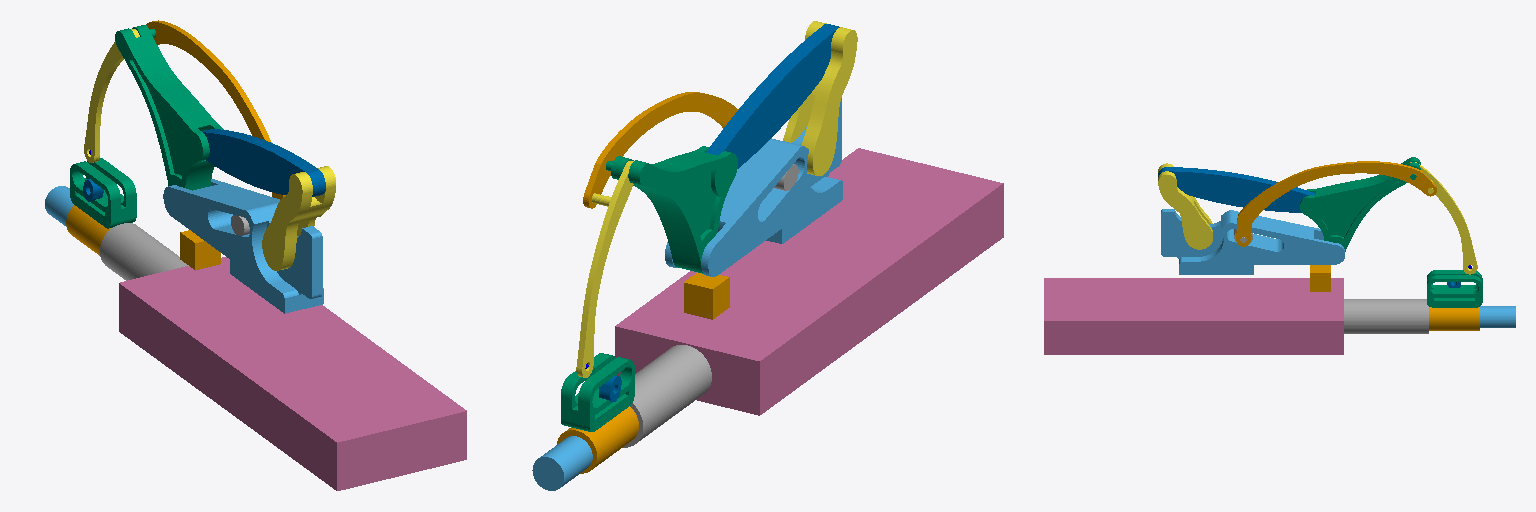
The robot description file, URDF, robot "urdf_assembly":
<?xml version='1.0' encoding='utf-8'?>

<robot name="urdf_assembly">

    <link name="base_link">
        <visual>
            <origin xyz="0 0 0" rpy="0 0 0"/>
            <geometry>
                <box size="0.01 0.01 0.01"/>
            </geometry>
        </visual>
    </link> 
    
    <link name="body">
        <inertial>
            <origin xyz="0.0 0.0 0.0" rpy="0.0 0.0 0.0" />
            <mass value="0.1223" />
            <inertia ixx="5.91121e-05" iyy="7.75083e-06" izz="5.56796e-05" ixy="-8.991e-12" iyz="-1.287e-06" ixz="-1.43744e-12" />
        </inertial>
        <visual name="body_visual">
            <origin xyz="0.0 0.0 0.0" rpy="0.0 0.0 0.0" />
            <geometry>
                <mesh filename="package://exoskeletron_description/meshes/body.stl" scale="0.001 0.001 0.001" />
            </geometry>
        </visual>
        <collision name="body_collision">
            <origin xyz="0.0 0.0 0.0" rpy="0.0 0.0 0.0" />
            <geometry>
                <mesh filename="package://exoskeletron_description/meshes/body.stl" scale="0.001 0.001 0.001" />
            </geometry>
        </collision>
    </link>

    <link name="link_AC">
        <inertial>
            <origin xyz="0.0222 -0.008172 0.0" rpy="0.0 0.0 0.0" />
            <mass value="0.06234" />
            <inertia ixx="1.15274e-05" iyy="9.5782e-06" izz="2.01595e-05" ixy="6.5499e-06" iyz="7.12e-08" ixz="-4.923e-08" />
        </inertial>
        <visual name="link_AC_visual">
            <origin xyz="0.007356 0.008556 0.0" rpy="-2.9131 -1.5708 0.0" />
            <geometry>
                <mesh filename="package://exoskeletron_description/meshes/link_AC.stl" scale="0.001 0.001 0.001" />
            </geometry>
        </visual>
        <collision name="link_AC_collision">
            <origin xyz="0.007356 0.008556 0.0" rpy="-2.9131 -1.5708 0.0" />
            <geometry>
                <mesh filename="package://exoskeletron_description/meshes/link_AC.stl" scale="0.001 0.001 0.001" />
            </geometry>
        </collision>
    </link>

    <link name="rear_crank">
        <inertial>
            <origin xyz="0.01361 0.007049 -0.000762" rpy="0.0 0.0 0.0" />
            <mass value="0.02908" />
            <inertia ixx="1.70292e-06" iyy="3.98339e-06" izz="4.76408e-06" ixy="-1.7956e-06" iyz="-1.13744e-07" ixz="-2.04e-07" />
        </inertial>
        <visual name="rear_crank_visual">
            <origin xyz="0.0171 -0.0588 0.0" rpy="-2.8798 -1.5708 0.0" />
            <geometry>
                <mesh filename="package://exoskeletron_description/meshes/rear_crank.stl" scale="0.001 0.001 0.001" />
            </geometry>
        </visual>
        <collision name="rear_crank_collision">
            <origin xyz="0.0171 -0.0588 0.0" rpy="-2.8798 -1.5708 0.0" />
            <geometry>
                <mesh filename="package://exoskeletron_description/meshes/rear_crank.stl" scale="0.001 0.001 0.001" />
            </geometry>
        </collision>
    </link>

    <link name="connecting_rod">
        <inertial>
            <origin xyz="-0.006793 -0.03467 0.0" rpy="0.0 0.0 0.0" />
            <mass value="0.03844" />
            <inertia ixx="1.55767e-05" iyy="1.21347e-06" izz="1.663e-05" ixy="-2.90187e-06" iyz="0.0" ixz="0.0" />
        </inertial>
        <visual name="connecting_rod_visual">
            <origin xyz="-0.03087 -0.06882 0.0" rpy="-3.132 -1.5708 0.0" />
            <geometry>
                <mesh filename="package://exoskeletron_description/meshes/connecting_rod.stl" scale="0.001 0.001 0.001" />
            </geometry>
        </visual>
        <collision name="connecting_rod_collision">
            <origin xyz="-0.03087 -0.06882 0.0" rpy="-3.132 -1.5708 0.0" />
            <geometry>
                <mesh filename="package://exoskeletron_description/meshes/connecting_rod.stl" scale="0.001 0.001 0.001" />
            </geometry>
        </collision>
    </link>


    <!--  NUOVI LINK E JOINT FISSI PER IL VINCOLO DI CHIUSURA  -->

    <!-- punto di chiusura su link_AC -->
    <link name="frame_AC_end">
        <visual>
            <origin xyz="0 0 0" rpy="0 0 0"/>
            <geometry>
                <sphere radius="0.001"/>
            </geometry>
            <material name="blue">
                <color rgba="0 0 1 1"/>
            </material>
        </visual>
    </link>

    <joint name="fixed_AC_end" type="fixed">
        <parent link="link_AC"/>
        <child link="frame_AC_end"/>
        <origin xyz="0.02446 0.01180 0.0" rpy="0.0 0.0 0.0"/>
    </joint>

    <!-- punto di chiusura su connecting_rod -->
    <link name="frame_rod_end">
        <visual>
            <origin xyz="0 0 0" rpy="0 0 0"/>
            <geometry>
                <sphere radius="0.001"/>
            </geometry>
            <material name="red">
                <color rgba="1 0 0 1"/>
            </material>
        </visual>
    </link>

    <joint name="fixed_rod_end" type="fixed">
        <parent link="connecting_rod"/>
        <child link="frame_rod_end"/>
        <origin xyz="-0.013442 -0.069321 -5.1062e-7" rpy="0 0 0"/>
    </joint>


<!--   JOINTS ORIGINALI   -->

    <joint name="rev_crank" type="revolute">
        <origin xyz="0.0 -0.05876 -0.0008932" rpy="-3.1416 -1.5708 0.0" />
        <parent link="body" />
        <child link="rear_crank" />
        <axis xyz="0.0 0.0 1.0" />
        <limit lower="-3.1416" upper="3.1416" effort="1000000" velocity="1000000" />
    </joint>

    <joint name="body_fixed" type="fixed">
        <parent link="base_link"/>
        <child link="body"/>
        <origin xyz="0 0 0.025" rpy="0 0 0"/>
    </joint>

    <joint name="rev_body2linkAC" type="revolute">
        <origin xyz="0.0 0.006701 -0.0089853" rpy="-3.1416 -1.5708 0.0" />
        <parent link="body" />
        <child link="link_AC" />
        <axis xyz="0.0 0.0 1.0" />
        <limit lower="-3.1416" upper="3.1416" effort="1000000" velocity="1000000" />
    </joint>

    <joint name="rev_crank2shaft" type="revolute">
        <origin xyz="0.02981 0.01566 0.0" rpy="0.0 0.0 0.0" />
        <parent link="rear_crank" />
        <child link="connecting_rod" />
        <axis xyz="0.0 0.0 1.0" />
        <limit lower="-3.1416" upper="3.1416" effort="1000000" velocity="1000000" />
    </joint>

<!-- #########################################-->

    <!-- LINKS -->

    <link name="slider_f">
        <inertial>
            <origin xyz="0.0002343 0.006014 0.00348" rpy="0.0 0.0 0.0" />
            <mass value="0.006394" />
            <inertia ixx="5.42365e-08" iyy="1.50739e-07" izz="1.63551e-07" ixy="0.0" iyz="0.0" ixz="0.0" />
        </inertial>
        <visual name="slider_f_visual">
            <origin xyz="-0.0075 -0.0275 -0.00875" rpy="-2.8947 0.0 0.0" />
            <geometry>
                <mesh filename="package://exoskeletron_description/meshes/slider_f.stl" scale="0.001 0.001 0.001" />
            </geometry>
        </visual>
        <collision name="slider_f_collision">
            <origin xyz="-0.0075 -0.0275 -0.00875" rpy="-2.8947 0.0 0.0" />
            <geometry>
                <mesh filename="package://exoskeletron_description/meshes/slider_f.stl" scale="0.001 0.001 0.001" />
            </geometry>
        </collision>
    </link>

    <link name="link_BC">
        <inertial>
            <origin xyz="0 0 0" rpy="0.0 0.0 0.0" />
            <mass value="0.01155" />
            <inertia ixx="1.10976e-05" iyy="1.53689e-06" izz="1.26268e-05" ixy="-2.99251e-06" iyz="0.0" ixz="0.0" />
        </inertial>
        <visual name="link_BC_visual">
            <origin xyz="0.004365 0.03241 -0.008" rpy="0.08988 1.5708 0.0" />
            <geometry>
                <mesh filename="package://exoskeletron_description/meshes/link_BC.stl" scale="0.001 0.001 0.001" />
            </geometry>
        </visual>
        <collision name="link_BC_collision">
            <origin xyz="0.004365 0.03241 -0.008" rpy="0.08988 1.5708 0.0" />
            <geometry>
                <mesh filename="package://exoskeletron_description/meshes/link_BC.stl" scale="0.001 0.001 0.001" />
            </geometry>
        </collision>
    </link> 
    

    <!-- JOINTS-->

    <joint name="slider" type="prismatic">
        <origin xyz="0.0 -0.037468 0.00023484" rpy="2.8861 0.0 0.0" /> 
        <parent link="body" />
        <child link="slider_f" />
        <axis xyz="0.0 1.0 0.0" />
        <limit lower="-0.0095" upper="0.0095" effort="1000000" velocity="1000000" />
    </joint>

    <joint name="rev_slider2linkBC" type="revolute">
        <origin xyz="0 0 0" rpy="-1.5708 1.3153 1.5708" />
        <parent link="slider_f" />
        <child link="link_BC" />
        <axis xyz="0.0 0.0 1.0" />
        <limit lower="-3.1416" upper="3.1416" effort="1000000" velocity="1000000" />
    </joint> 



     <!-- punto di chiusura su link_AC -->
    <link name="frame_AC_end_2">
        <visual>
            <origin xyz="0 0 0" rpy="0 0 0"/>
            <geometry>
                <sphere radius="0.001"/>
            </geometry>
            <material name="blue">
                <color rgba="0 0 1 1"/>
            </material>
        </visual>
    </link>

    <joint name="fixed_AC_end_2" type="fixed">
        <parent link="link_AC"/>
        <child link="frame_AC_end_2"/>
        <origin xyz="0.0430 -0.03828 0" rpy="0.0 0.0 0.0"/>
    </joint>


    <!-- punto di chiusura su link_BC -->
    <link name="frame_BC_end">
        <visual>
            <origin xyz="0 0 0" rpy="0 0 0"/>
            <geometry>
                <sphere radius="0.001"/>
            </geometry>
            <material name="blue">
                <color rgba="0 0 1 1"/>
            </material>
        </visual>
    </link>

    <joint name="fixed_BC_end" type="fixed">
        <parent link="link_BC"/>
        <child link="frame_BC_end"/>
        <origin xyz="0.03378016 0.082449 4.4124e-7" rpy="3.1416 0.0 0.0"/>
    </joint>



    <!-- FIN QUI FUNZIONA TUTTO-->
<!-- ############################################################## -->

    <!-- LINKS -->

    <link name="link_CE">
        <inertial>
            <origin xyz="-0.02316 -0.0166 0.000506" rpy="0.0 0.0 0.0" />
            <mass value="0.005995" />
            <inertia ixx="5.16e-07" iyy="1.80331e-06" izz="2.27595e-06" ixy="-8.82461e-07" iyz="-2.50712e-08" ixz="-4.76815e-08" />
        </inertial>
        <visual name="link_CE_visual">
            <origin xyz="-0.03204 0.04956 -0.001" rpy="-2.9908 -1.5708 0.0" />
            <geometry>
                <mesh filename="package://exoskeletron_description/meshes/link_CE.stl" scale="0.001 0.001 0.001" />
            </geometry>
        </visual>
        <collision name="link_CE_collision">
            <origin xyz="-0.03204 0.04956 -0.001" rpy="-2.9908 -1.5708 0.0" />
            <geometry>
                <mesh filename="package://exoskeletron_description/meshes/link_CE.stl" scale="0.001 0.001 0.001" />
            </geometry>
        </collision>
    </link>

    <!-- JOINTS -->


    <joint name="rev_linkAC2linkCE" type="revolute">
        <origin xyz="0.04298 -0.03828 0.0" rpy="0.0 0.0 0.0" />
        <parent link="link_AC" />
        <child link="link_CE" />
        <axis xyz="0.0 0.0 1.0" />
        <limit lower="-3.1416" upper="3.1416" effort="1000000" velocity="1000000" />
    </joint>


    <!-- CHIUSURE -->
    <link name="frame_CE_end">
        <visual>
            <origin xyz="0 0 0" rpy="0 0 0"/>
            <geometry>
                <sphere radius="0.001"/>
            </geometry>
            <material name="blue">
                <color rgba="0 0 1 1"/>
            </material>
        </visual>
    </link>

    <joint name="fixed_CE_end" type="fixed">
        <parent link="link_CE"/>
        <child link="frame_CE_end"/>
        <origin xyz="-0.007428 -0.008328 0.0" rpy="0.0 0.0 0.0" />
    </joint>


    <link name="frame_BC_end_2">
        <visual>
            <origin xyz="0 0 0" rpy="0 0 0"/>
            <geometry>
                <sphere radius="0.001"/>
            </geometry>
            <material name="blue">
                <color rgba="0 0 1 1"/>
            </material>
        </visual>
    </link>

    <joint name="fixed_BC_end_2" type="fixed">
        <parent link="link_BC"/>
        <child link="frame_BC_end_2"/>
        <origin xyz="0.02633216 0.090777 4.1981e-7" rpy="3.1416 0.0 0.0" />
    </joint>





<!-- ####################################
PARTE DELLA MANO
######################################  -->

    

  <link name="mano_palmo">
    <inertial>
      <origin xyz="0 0 0" rpy="0 0 0"/>
      <mass value="1.022198"/>
      <inertia ixx="0.001831" iyy="0.000240" izz="0.002016" ixy="0" iyz="0" ixz="0"/>
    </inertial>
    <visual name="mano_palmo_visual">
      <origin xyz="0 0 0" rpy="0 0 0"/>
      <geometry>
        <mesh filename="package://exoskeletron_description/meshes/mano_palmo.stl" scale="0.001 0.001 0.001"/>
      </geometry>
    </visual>
    <collision name="mano_palmo_collision">
      <origin xyz="0 0 0" rpy="0 0 0"/>
      <geometry>
        <mesh filename="package://exoskeletron_description/meshes/mano_palmo.stl" scale="0.001 0.001 0.001"/>
      </geometry>
    </collision>
  </link>

    <joint name="fixed_palmo_body" type="fixed">
        <origin xyz="-0.00499987665  0.008 0.01" rpy="0 0 0"/>
        <parent link="base_link"/>
        <child link="mano_palmo"/>
    </joint>







  <link name="mano_prossimale">
    <inertial>
      <origin xyz="0.0 0.020500 0.0" rpy="0 0 0"/>
      <mass value="0.073054"/>
      <inertia ixx="0.000012" iyy="0.000003" izz="0.000012" ixy="0" iyz="0" ixz="0"/>
    </inertial>
    <visual name="mano_prossimale_visual">
      <origin xyz="0.0 -0.009771 0.030232" rpy="0 0 0"/>
      <geometry>
        <mesh filename="package://exoskeletron_description/meshes/mano_prossimale.stl" scale="0.001 0.001 0.001"/>
      </geometry>
    </visual>
    <collision name="mano_prossimale_collision">
      <origin xyz="0.0 -0.009771 0.030232" rpy="0 0 0"/>
      <geometry>
        <mesh filename="package://exoskeletron_description/meshes/mano_prossimale.stl" scale="0.001 0.001 0.001"/>
      </geometry>
    </collision>
  </link>

  <link name="mano_mediale">
    <inertial>
      <origin xyz="0.0 0.0 0.012500" rpy="0 0 0"/>
      <mass value="0.030210"/>
      <inertia ixx="0.000002" iyy="0.000002" izz="0.000001" ixy="0" iyz="0" ixz="0"/>
    </inertial>
    <visual name="mano_mediale_visual">
      <origin xyz="0.0 -0.030003 -0.055062" rpy="1.570796 0 0"/>
      <geometry>
        <mesh filename="package://exoskeletron_description/meshes/mano_mediale.stl" scale="0.001 0.001 0.001"/>
      </geometry>
    </visual>
    <collision name="mano_mediale_collision">
      <origin xyz="0.0 -0.030003 -0.055062" rpy="1.570796 0 0"/>
      <geometry>
        <mesh filename="package://exoskeletron_description/meshes/mano_mediale.stl" scale="0.001 0.001 0.001"/>
      </geometry>
    </collision>
  </link>

  <link name="mano_distale">
    <inertial>
      <origin xyz="0.005 -0.002061 -0.000416" rpy="0 0 0"/>
      <mass value="0.012682"/>
      <inertia ixx="0.0000004" iyy="0.0000002" izz="0.0000004" ixy="0" iyz="0" ixz="0"/>
    </inertial>
    <visual name="mano_distale_visual">
      <origin xyz="0.005 -0.095554 0.029624" rpy="0 0 0"/>
      <geometry>
        <mesh filename="package://exoskeletron_description/meshes/mano_distale.stl" scale="0.001 0.001 0.001"/>
      </geometry>
    </visual>
    <collision name="mano_distale_collision">
      <origin xyz="0.005 -0.095554 0.029624" rpy="0 0 0"/>
      <geometry>
        <mesh filename="package://exoskeletron_description/meshes/mano_distale.stl" scale="0.001 0.001 0.001"/>
      </geometry>
    </collision>
  </link>

  <link name="thimble">
    <inertial>
      <origin xyz="0 -0.005904 -0.000009" rpy="0 0 0"/>
      <mass value="0.017101"/>
      <inertia ixx="0.00000155" iyy="0.00000133" izz="0.00000052" ixy="0" iyz="0" ixz="0"/>
    </inertial>
    <visual name="thimble_visual">
      <origin xyz="0.001 -0.018039 -0.079492" rpy="1.889773 0 0"/>
      <geometry>
        <mesh filename="package://exoskeletron_description/meshes/thimble.stl" scale="0.001 0.001 0.001"/>
      </geometry>
    </visual>
    <collision name="thimble_collision">
      <origin xyz="0.001 -0.018039 -0.079492" rpy="1.889773 0 0"/>
      <geometry>
        <mesh filename="package://exoskeletron_description/meshes/thimble.stl" scale="0.001 0.001 0.001"/>
      </geometry>
    </collision>
  </link>



  <joint name="rev_palmo2prossimale" type="revolute">
    <origin xyz="0.005 0.003501 -0.03041958" rpy="0 0 0"/>
    <parent link="mano_palmo"/>
    <child link="mano_prossimale"/>
    <axis xyz="1 0 0"/>
    <limit lower="-1.570796" upper="0.087266" effort="1000000" velocity="1000000"/>
  </joint>

  <joint name="rev_prossimale2mediale" type="revolute">
    <origin xyz="0 0.041 0" rpy="-1.570796 0 0"/>
    <parent link="mano_prossimale"/>
    <child link="mano_mediale"/>
    <axis xyz="1 0 0"/>
    <limit lower="-1.570796" upper="0.0" effort="1000000" velocity="1000000"/>
  </joint>


  <joint name="fixed_mediale2distale" type="fixed">
    <origin xyz="-0.005 0 0.035561" rpy="1.570796 0 0"/>
    <parent link="mano_mediale"/>
    <child link="mano_distale"/>
  </joint>



  <joint name="fixed_support" type="fixed">
    <origin xyz="0 -0.007 0.0125" rpy="0 0 0"/>
    <parent link="mano_mediale"/>
    <child link="thimble"/>
  </joint>






    <link name="frame_CE_end_2">
        <visual>
            <origin xyz="0 0 0" rpy="0 0 0"/>
            <geometry>
                <sphere radius="0.001"/>
            </geometry>
            <material name="blue">
                <color rgba="0 0 1 1"/>
            </material>
        </visual>
    </link>

    <joint name="fixed_CE_end_2" type="fixed">
        <parent link="link_CE"/>
        <child link="frame_CE_end_2"/>
        <origin xyz="-0.0531 -0.02751 -3.9714e-7" rpy="0.0 -1.5708 0.0" />
    </joint>




    <link name="slider_t">
        <inertial>
        <origin xyz="0 0 0" rpy="0 0 0"/>
        <mass value="0.001104"/>
        <inertia ixx="0.000000009" iyy="0.000000005" izz="0.000000007" ixy="0" iyz="0" ixz="0"/>
        </inertial>
        <visual name="slider_t_visual">
        <origin xyz="-0.002 0.081 0.01515" rpy="-2.538822 0 0"/>
        <geometry>
            <mesh filename="package://exoskeletron_description/meshes/slider_t.stl" scale="0.001 0.001 0.001"/>
        </geometry>
        </visual>
        <collision name="slider_t_collision">
        <origin xyz="-0.002 0.079848 0.018483" rpy="-2.538822 0 0"/>
        <geometry>
            <mesh filename="package://exoskeletron_description/meshes/slider_t.stl" scale="0.001 0.001 0.001"/>
        </geometry>
        </collision>
    </link>



    <joint name="slider2" type="prismatic">
        <origin xyz="0 -0.01 -0.000082" rpy="0 0 0"/>
        <parent link="thimble"/>
        <child link="slider_t"/>
        <axis xyz="0 0 1"/>
        <limit lower="-0.007" upper="0.007" effort="1000000" velocity="1000000"/>
  </joint>




<!-- FIX? -->

    <!-- <link name="frame_slider_t">
        <visual>
            <origin xyz="0 0 0" rpy="0 0 0"/>
            <geometry>
                <sphere radius="0.001"/>
            </geometry>
            <material name="blue">
                <color rgba="0 0 1 1"/>
            </material>
        </visual>
    </link>

    <joint name="fixed_slider_t_constraint_point" type="revolute">
        <parent link="slider_t"/>
        <child link="frame_slider_t"/>
        <origin xyz="0 0 0"  rpy="0 0 0"/>
        <axis xyz="1.0 0.0 0.0" />
        <limit lower="-3.1416" upper="3.1416" effort="1000000" velocity="1000000" />
    </joint> -->


</robot>

--- What the picture shows (computed from the rendered views, not written in the file) ---
3 views of the same robot in one strip: view 1: azimuth 30°, elevation 25°; view 2: azimuth 150°, elevation 25°; view 3: azimuth 270°, elevation 25° (orthographic).
Model urdf_assembly with 21 links and 20 joints (7 revolute, 2 prismatic, 11 fixed), rooted at base_link, posed every joint at zero.
Visible links, largest first — view 1: mano_palmo, body, link_AC, connecting_rod, rear_crank, thimble, mano_prossimale, link_BC, link_CE, base_link, mano_mediale, mano_distale; view 2: mano_palmo, body, link_AC, connecting_rod, rear_crank, mano_prossimale, thimble, link_BC, link_CE, mano_distale, mano_mediale, base_link; view 3: mano_palmo, body, link_AC, connecting_rod, link_BC, mano_prossimale, rear_crank, thimble, link_CE, mano_mediale, mano_distale, base_link.
Boxes of the visible links, x1=… form: mano_palmo: x1=119, y1=257, x2=466, y2=490; body: x1=163, y1=179, x2=323, y2=313; link_AC: x1=115, y1=25, x2=223, y2=190; connecting_rod: x1=202, y1=129, x2=325, y2=196; rear_crank: x1=262, y1=166, x2=335, y2=270; thimble: x1=70, y1=158, x2=136, y2=228; mano_prossimale: x1=100, y1=223, x2=188, y2=280; link_BC: x1=146, y1=20, x2=285, y2=199; link_CE: x1=84, y1=29, x2=139, y2=162; base_link: x1=180, y1=230, x2=220, y2=270; mano_mediale: x1=66, y1=205, x2=110, y2=255; mano_distale: x1=45, y1=186, x2=73, y2=226; mano_palmo: x1=615, y1=148, x2=1003, y2=415; body: x1=665, y1=98, x2=842, y2=276; link_AC: x1=606, y1=146, x2=737, y2=273; connecting_rod: x1=706, y1=24, x2=839, y2=168; rear_crank: x1=783, y1=21, x2=857, y2=175; mano_prossimale: x1=623, y1=345, x2=711, y2=447; thimble: x1=561, y1=353, x2=634, y2=431; link_BC: x1=583, y1=92, x2=738, y2=208; link_CE: x1=576, y1=161, x2=633, y2=377; mano_distale: x1=532, y1=436, x2=592, y2=490; mano_mediale: x1=557, y1=406, x2=638, y2=473; base_link: x1=684, y1=272, x2=729, y2=319; mano_palmo: x1=1044, y1=278, x2=1343, y2=354; body: x1=1161, y1=209, x2=1344, y2=274; link_AC: x1=1300, y1=157, x2=1420, y2=251; connecting_rod: x1=1158, y1=167, x2=1315, y2=212; link_BC: x1=1236, y1=161, x2=1436, y2=246; mano_prossimale: x1=1344, y1=299, x2=1428, y2=333; rear_crank: x1=1158, y1=163, x2=1212, y2=249; thimble: x1=1427, y1=270, x2=1482, y2=307; link_CE: x1=1410, y1=162, x2=1477, y2=274; mano_mediale: x1=1429, y1=307, x2=1479, y2=330; mano_distale: x1=1480, y1=306, x2=1515, y2=327; base_link: x1=1310, y1=265, x2=1330, y2=291.
Bounding box of the posed robot: 0.05 × 0.2285 × 0.0958 m (x, y, z).
13 mesh visuals loaded from 13 distinct referenced files (13 binary STL).
